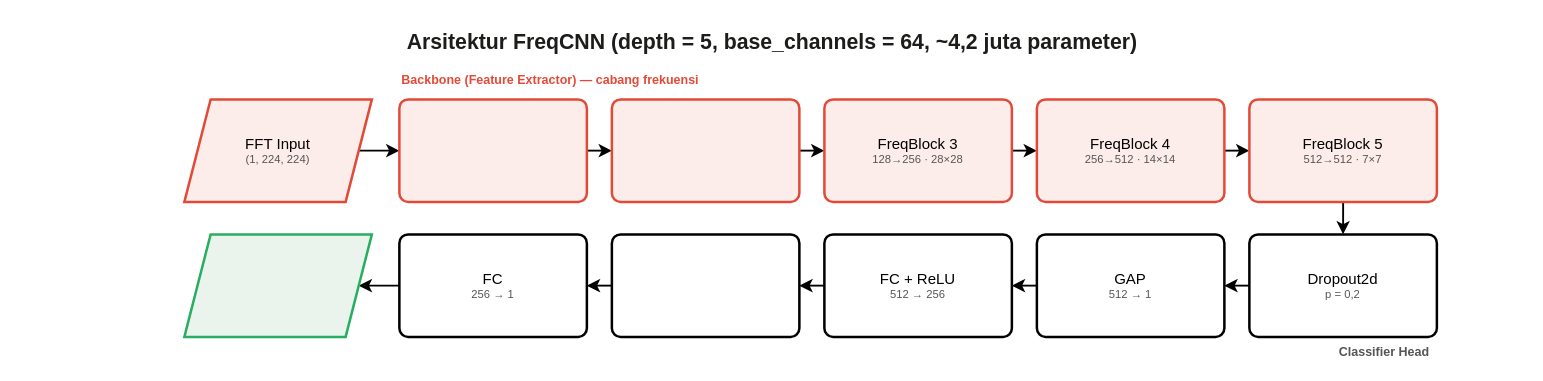
The diagram is 1543 pixels wide and 381 high, and some of its shapes have lost their labels. The centre of each missing label's shape, as x and y in pixels:
"Dropout p = 0,3" goes at pixel 705 285.
"FreqBlock 1 1→64 · 112×112" goes at pixel 493 150.
"FreqBlock 2 64→128 · 56×56" goes at pixel 705 150.
"Logit skor (1-d)" goes at pixel 277 285.
